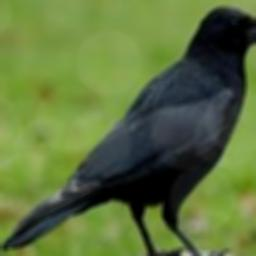Crow: (3, 5, 256, 256)
